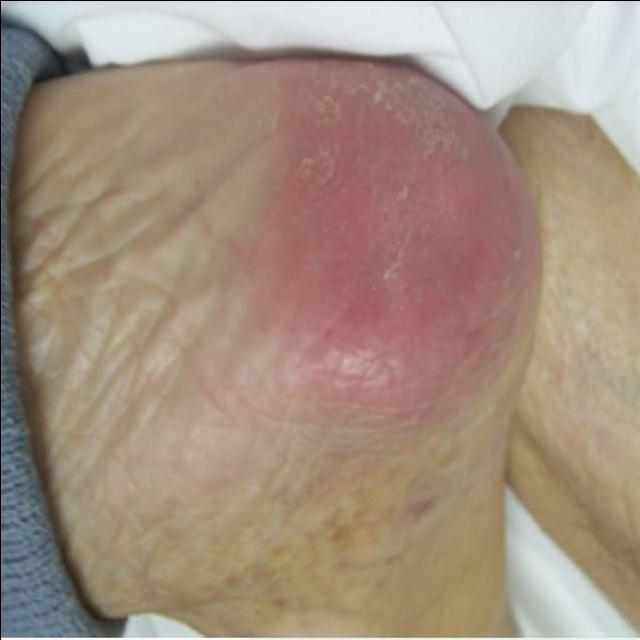stage-1: (250, 51, 546, 426)
